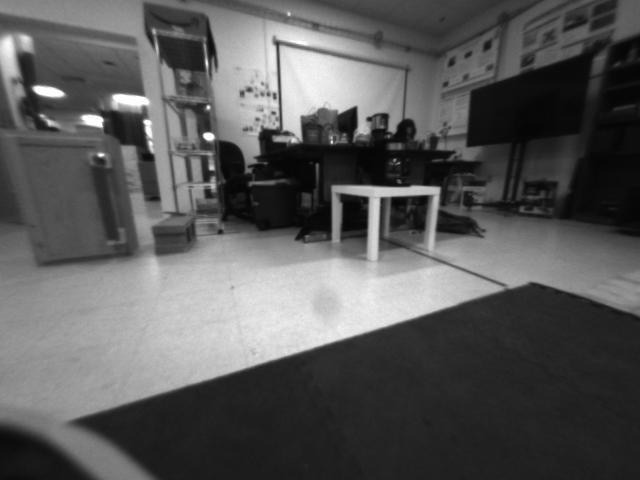coffee_pot: (373, 138, 413, 190)
